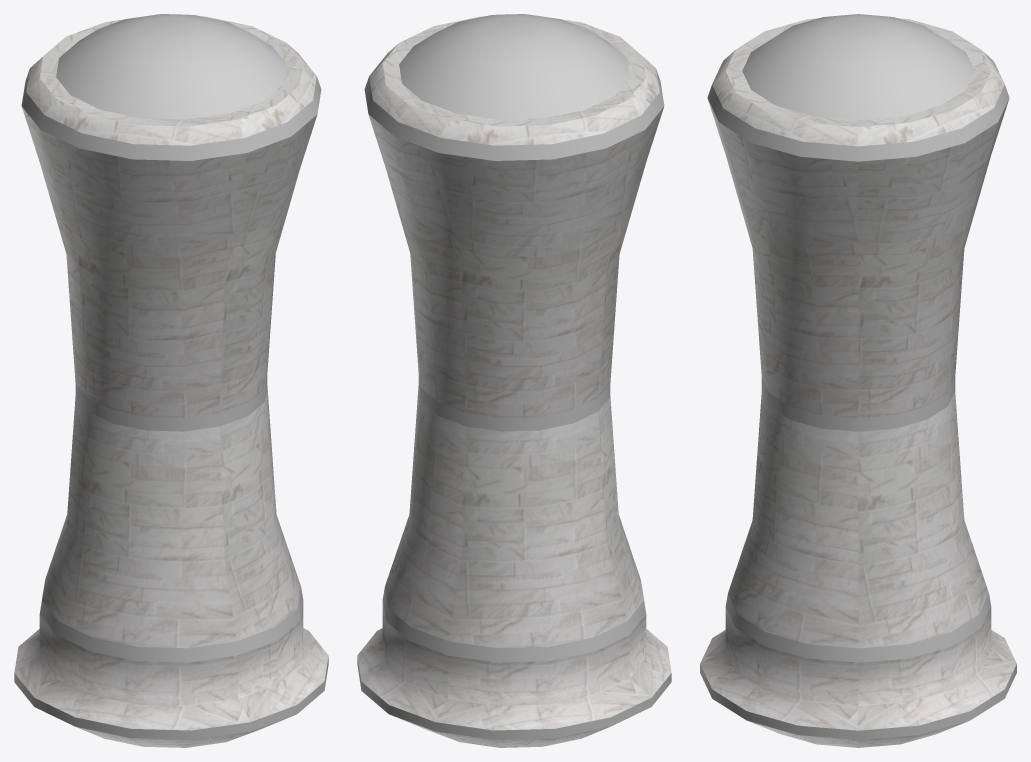
File: TowerA.fbx
The picture shows the model from 3 angles, left to right: view 1: azimuth 30°, elevation 25°; view 2: azimuth 150°, elevation 25°; view 3: azimuth 270°, elevation 25°; orthographic projection.
Parts seen in each view (by area): view 1: Body, Roof, Decor; view 2: Body, Roof, Decor; view 3: Body, Roof, Decor.
Boxes of the visible parts, x1,y1,x2,y2 form: Body: (14,16,328,747); Roof: (56,14,286,119); Decor: (14,69,328,739); Body: (357,16,671,747); Roof: (399,14,629,119); Decor: (357,69,671,739); Body: (700,18,1016,747); Roof: (742,14,974,119); Decor: (700,85,1016,739).
Size of the model in its own units: 4804 by 11201 by 4804.
